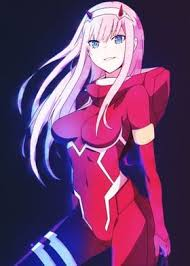zeroTwo: (72, 1, 151, 72)
